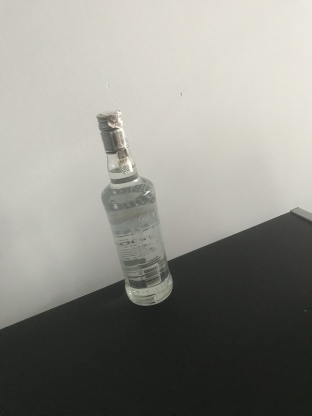nakretka: (95, 108, 130, 155)
